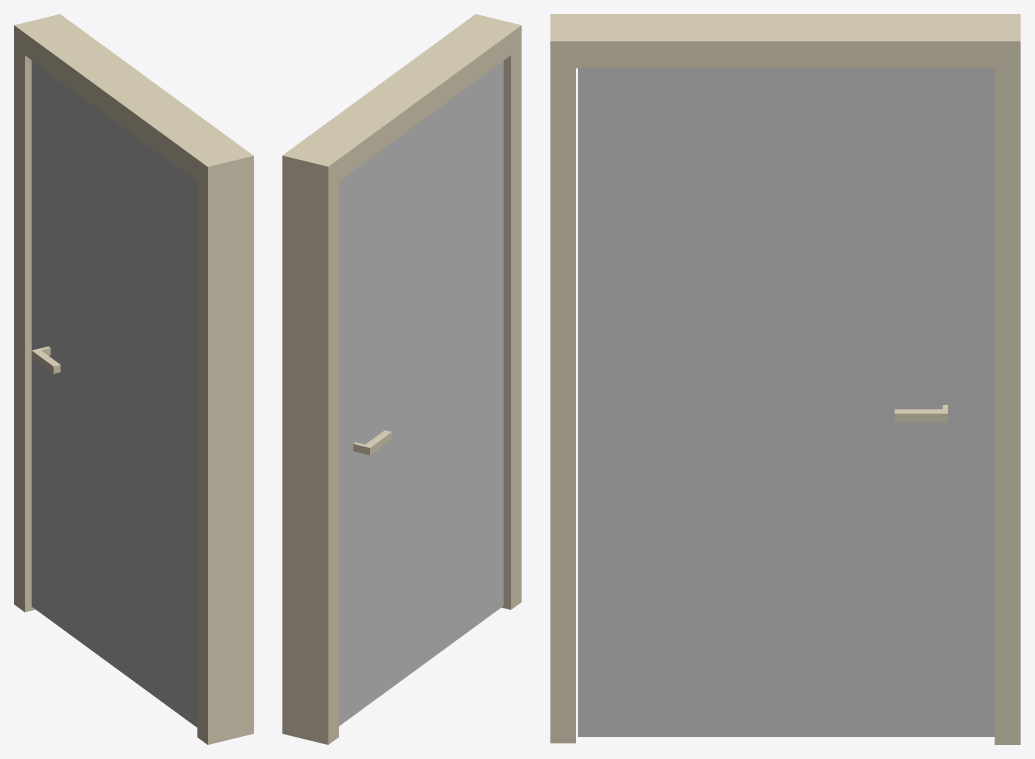
File: doorP.fbx
3 renders of one model, left to right at view 1: azimuth 30°, elevation 25°; view 2: azimuth 150°, elevation 25°; view 3: azimuth 270°, elevation 25°, orthographic. The views are drawn at different scales.
Parts seen in each view (by area): view 1: Porte, Batis; view 2: Porte, Batis; view 3: Porte, Batis.
Part boxes in pixels (box(x1,y1,x2,y2)): Porte: box(31, 60, 197, 727); Batis: box(14, 14, 253, 744); Porte: box(339, 61, 503, 725); Batis: box(282, 14, 521, 744); Porte: box(578, 68, 994, 736); Batis: box(550, 14, 1020, 744).
Size of the model in its own units: 80.75 by 658 by 399.
